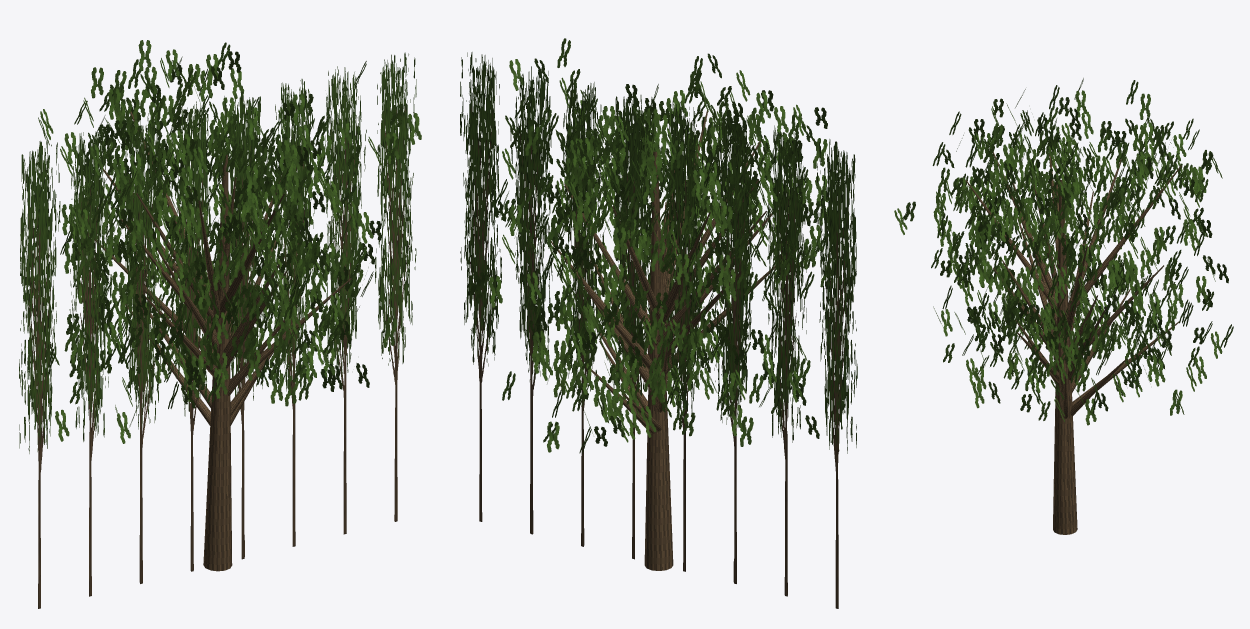
The model's file is beech.glb.
3 views of the same model, side by side, from view 1: azimuth 30°, elevation 25°; view 2: azimuth 150°, elevation 25°; view 3: azimuth 270°, elevation 25° (orthographic). The views are drawn at different scales.
Parts seen in each view (by area): view 1: foliage-lod0, eight-view-impostor, bark-lod0; view 2: foliage-lod0, eight-view-impostor, bark-lod0; view 3: foliage-lod0, bark-lod0.
Part boxes in pixels (box(x1,y1,x2,y2)): foliage-lod0: box(28, 40, 421, 443); eight-view-impostor: box(19, 52, 416, 608); bark-lod0: box(94, 106, 351, 571); foliage-lod0: box(469, 38, 856, 453); eight-view-impostor: box(460, 52, 857, 608); bark-lod0: box(551, 109, 789, 570); foliage-lod0: box(894, 78, 1233, 425); bark-lod0: box(965, 151, 1181, 534).
Size of what is drawn, in the model's own units: 19.55 by 23.01 by 16.71.
